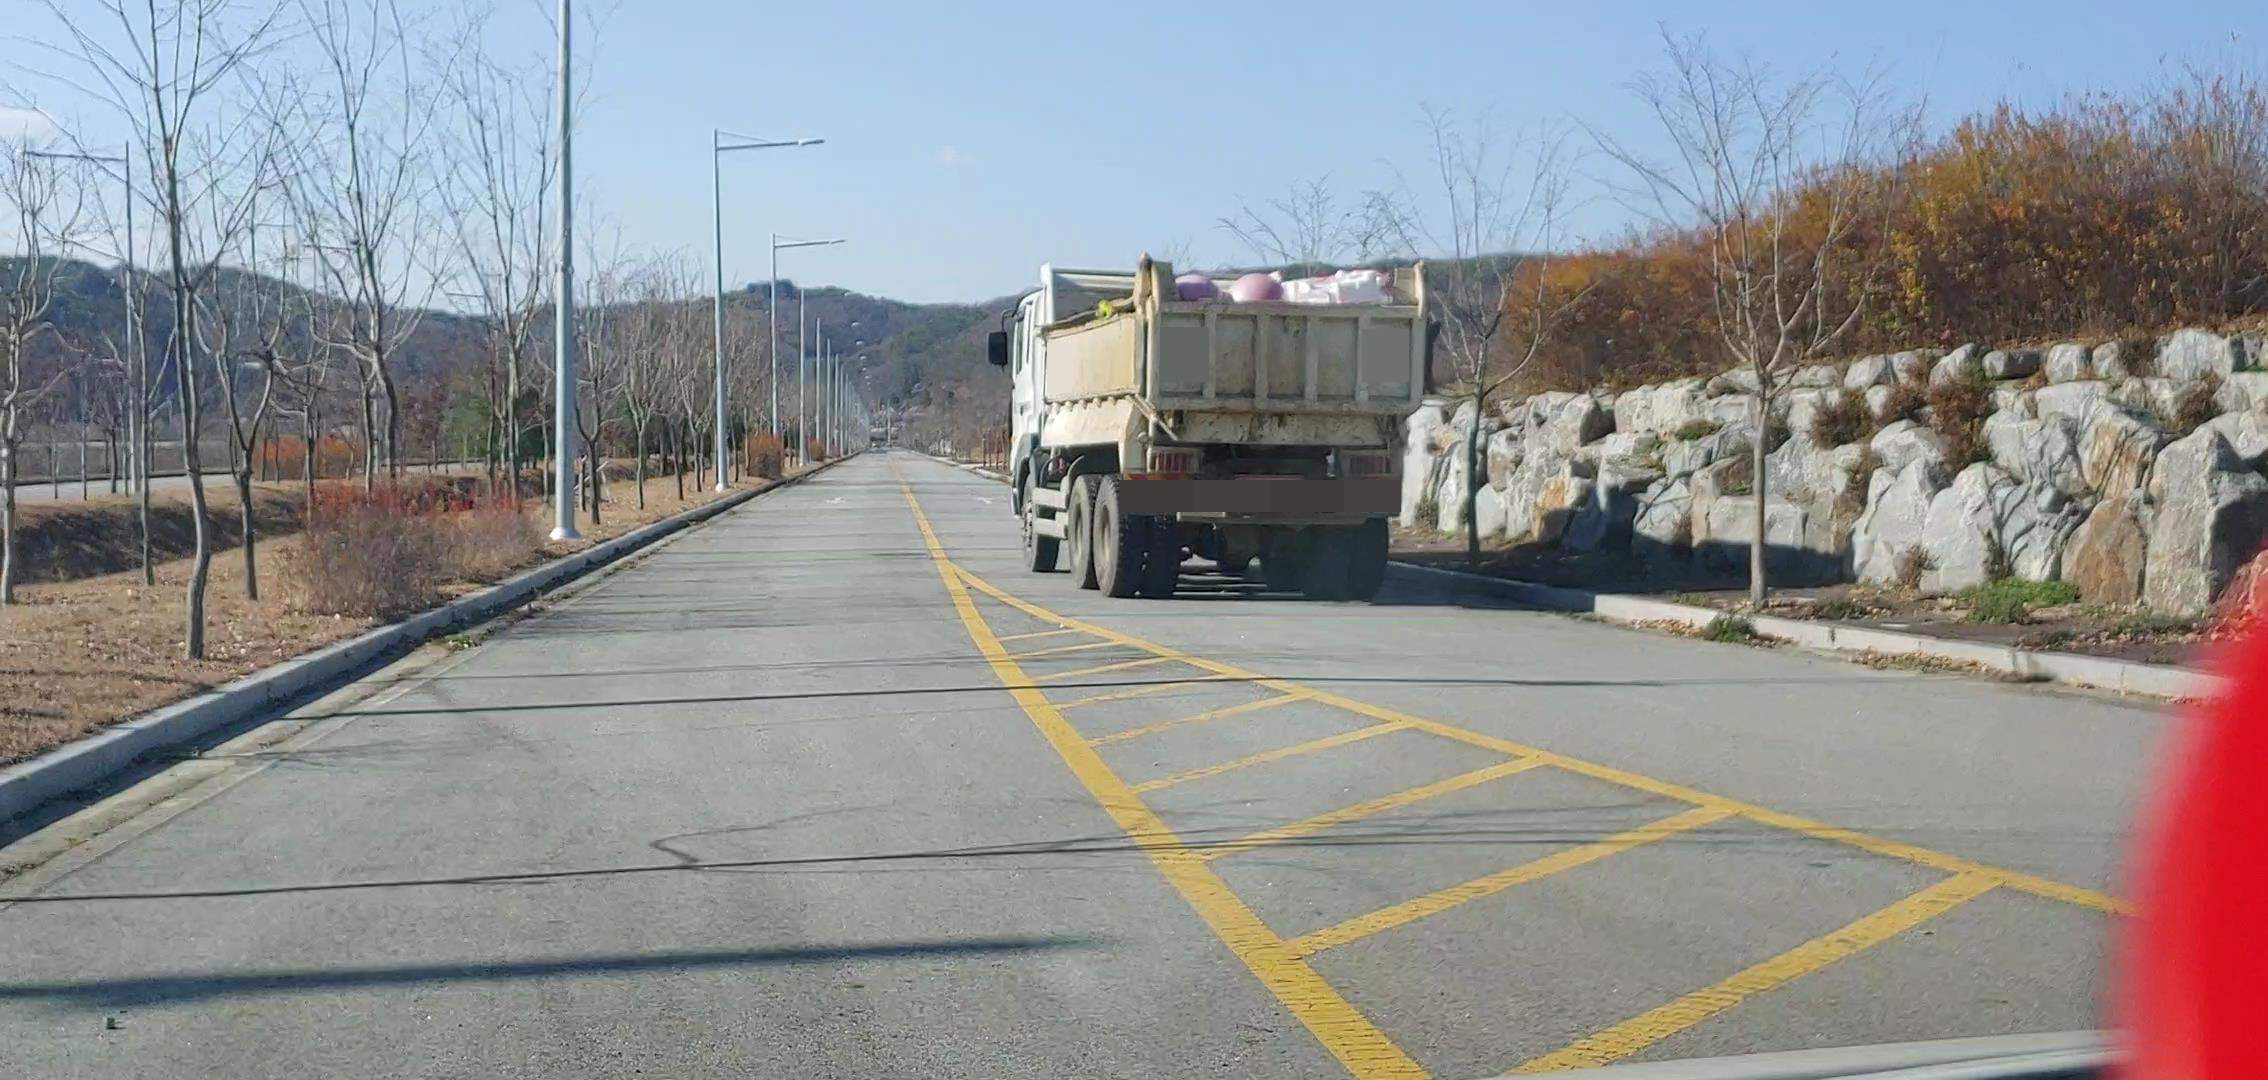불법차량: (987, 248, 1440, 602)
